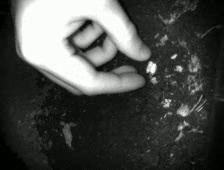corn: (144, 58, 153, 74), (149, 61, 158, 76)
